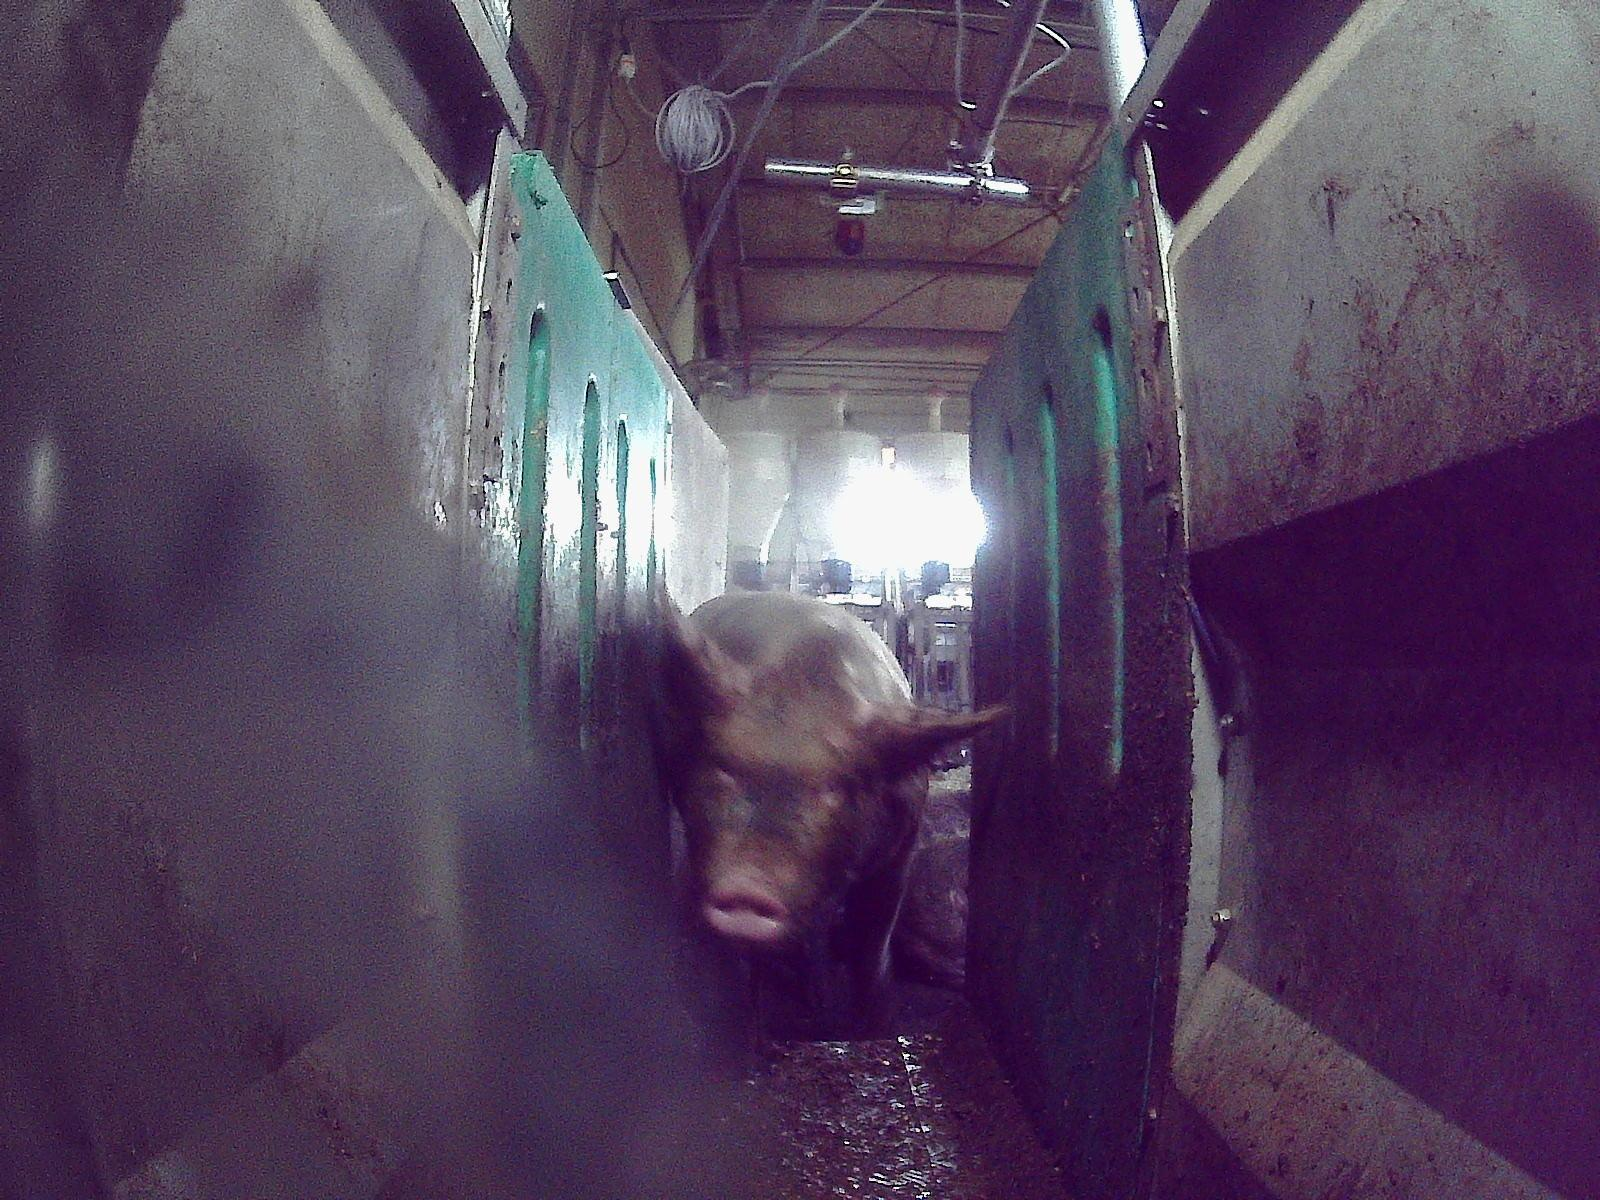Face: (685, 667, 892, 940)
